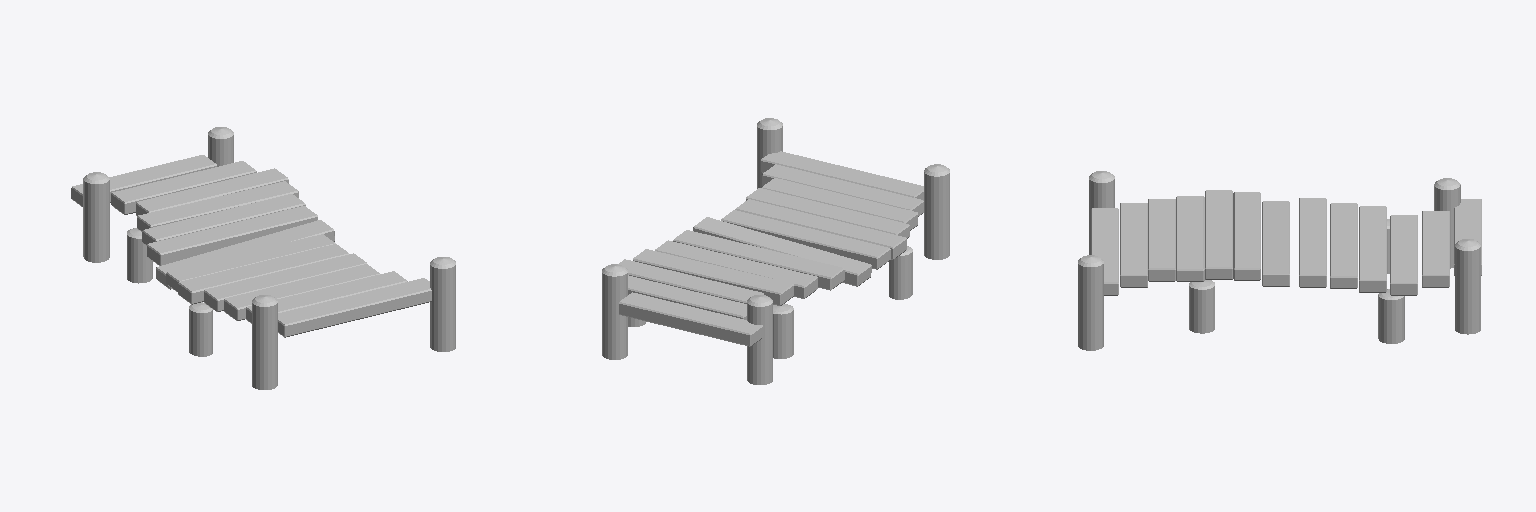
The model's file is dock.obj.
3 renders of one model, left to right at view 1: azimuth 30°, elevation 25°; view 2: azimuth 150°, elevation 25°; view 3: azimuth 270°, elevation 25°, orthographic.
Visible parts, largest first — view 1: pCube16; view 2: pCube16; view 3: pCube16.
Boxes of the visible parts, <box> form: pCube16: <box>71,127,455,389</box>; pCube16: <box>602,118,949,384</box>; pCube16: <box>1078,171,1481,350</box>.
Bounding box in the file's own units: 4.63 × 1.87 × 7.79.